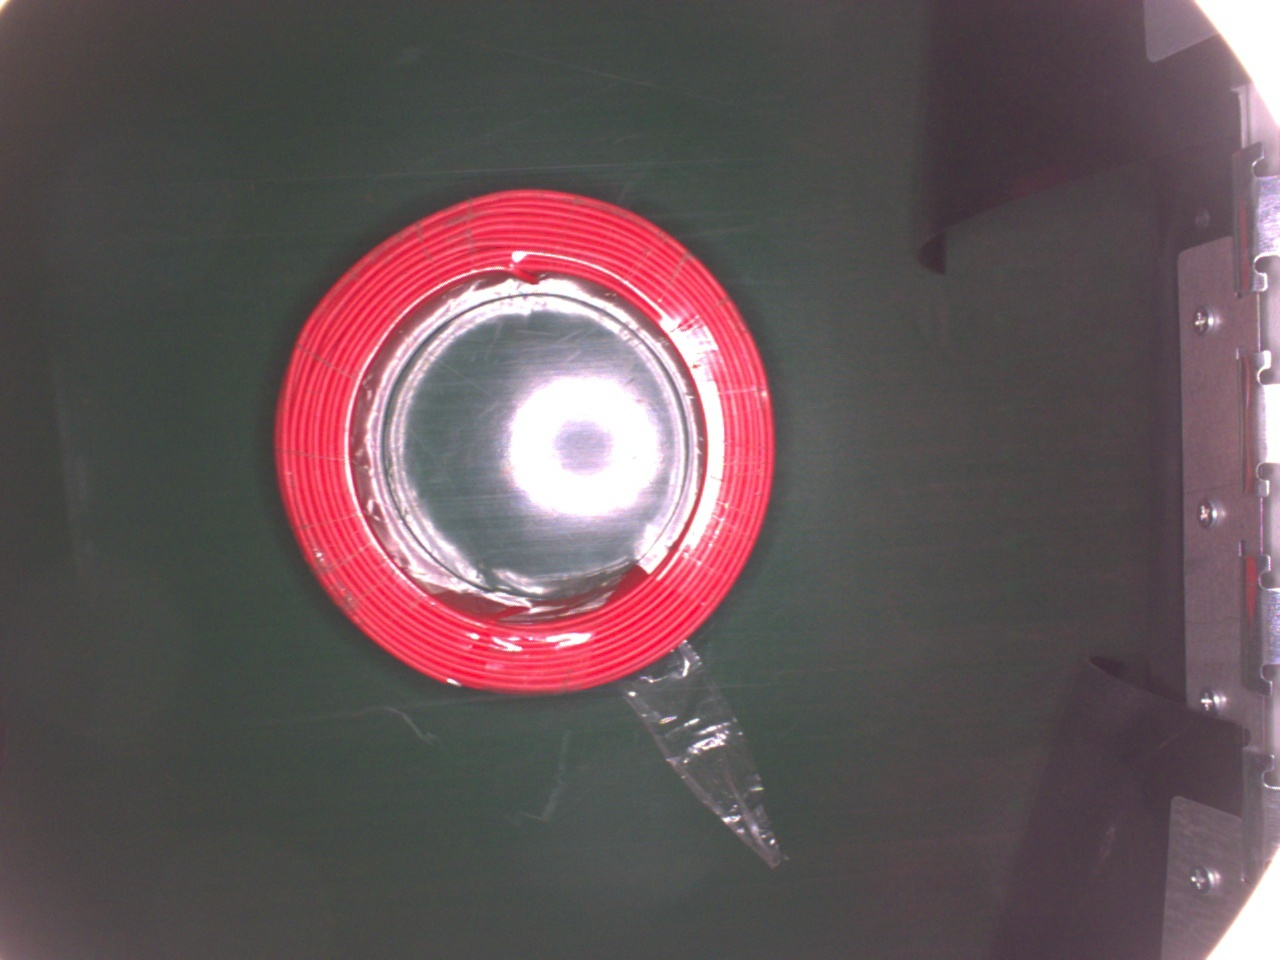red: (272, 186, 771, 697)
